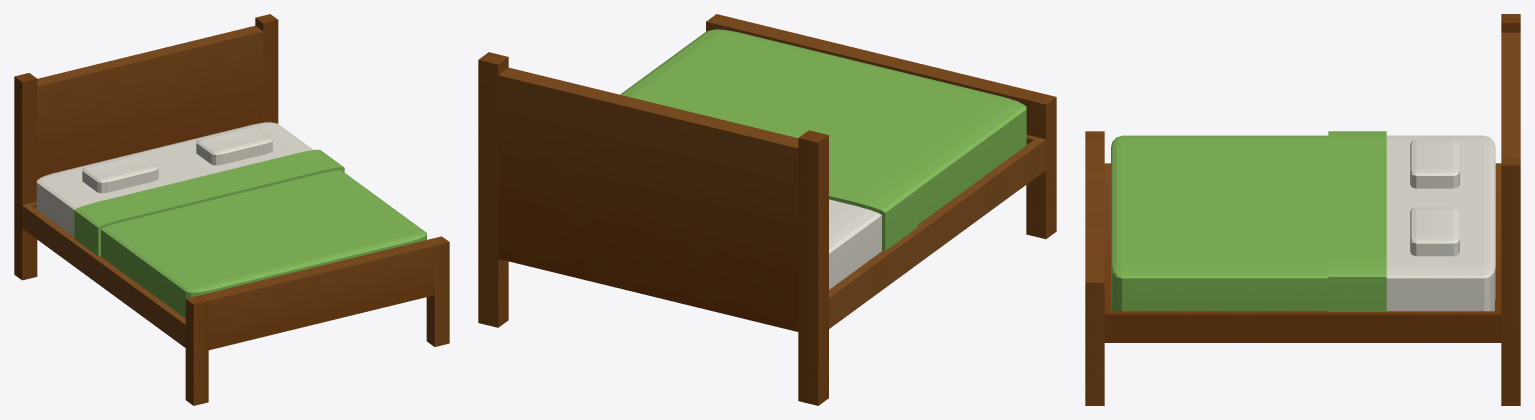
File: SM_Bed.fbx
The picture shows the model from 3 angles, left to right: view 1: azimuth 30°, elevation 25°; view 2: azimuth 150°, elevation 25°; view 3: azimuth 270°, elevation 25°; orthographic projection. The views are drawn at different scales.
Parts seen in each view (by area): view 1: Cube.006; view 2: Cube.006; view 3: Cube.006.
Boxes of the visible parts, x1,y1,x2,y2 form: Cube.006: (14, 14, 449, 405); Cube.006: (478, 14, 1056, 405); Cube.006: (1085, 14, 1520, 405).
Size of the model in its own units: 1.6 by 1.18 by 1.94.
